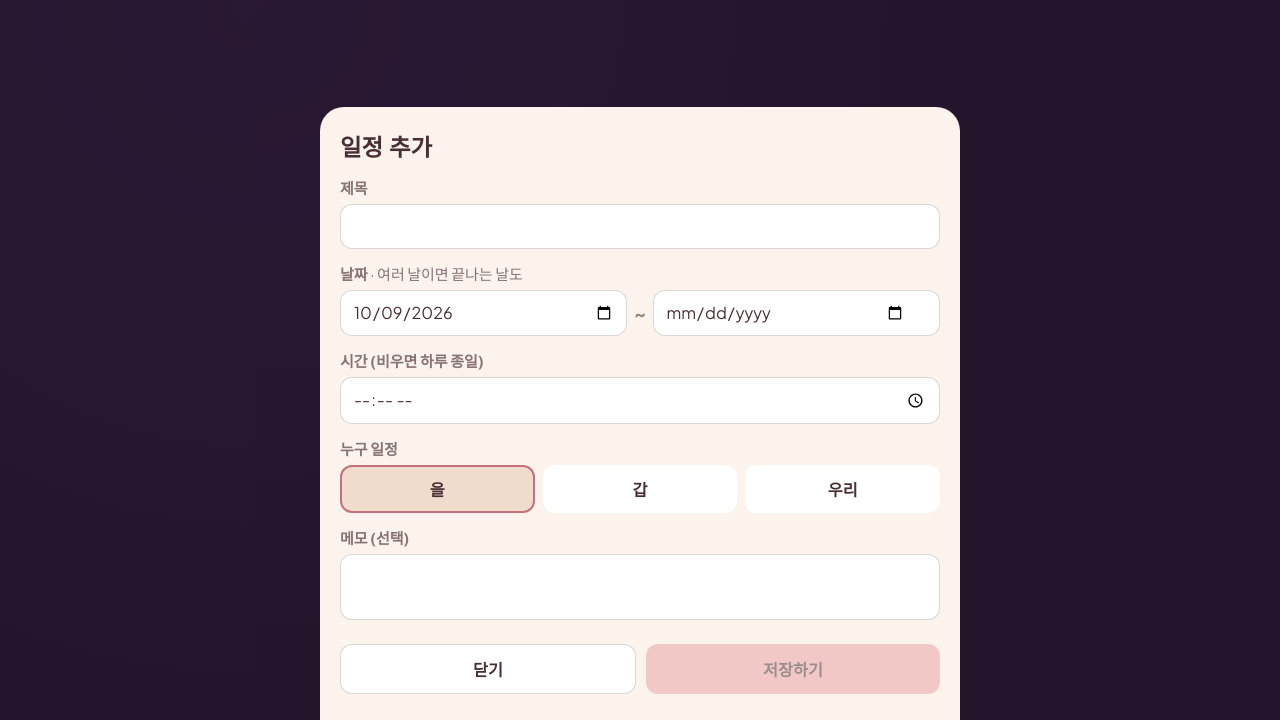
EventFormModal › saves a span of days in one go
This screenshot has width=1280, height=720.
Later steps or results of the test are not shown.
Type "여행" into the field labelled "제목".
click(640, 226); type("여행")  # box [340,204,940,249]
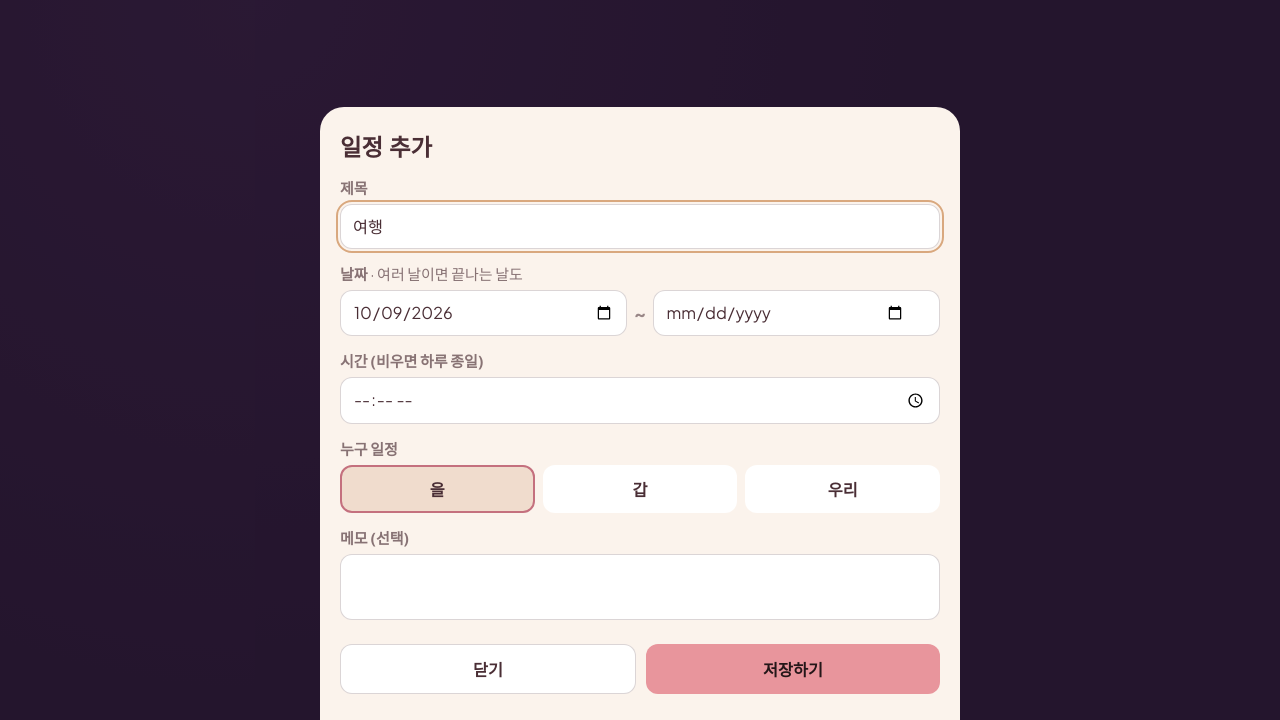
Type "2026-10-12" into the date field named "끝나는 날".
click(796, 313); type("2026-10-12")  # box [653,290,940,336]
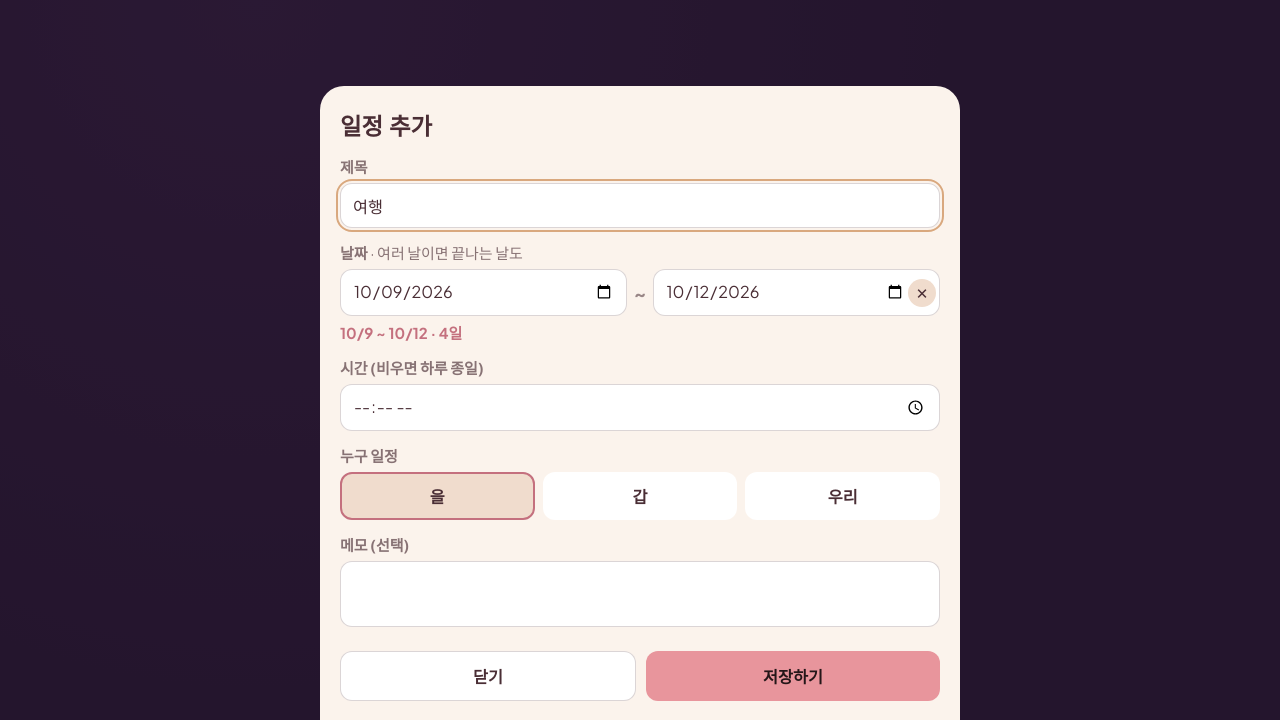
Now the text "10/9 ~ 10/12 · 4일" is shown, box [340,323,462,342]
